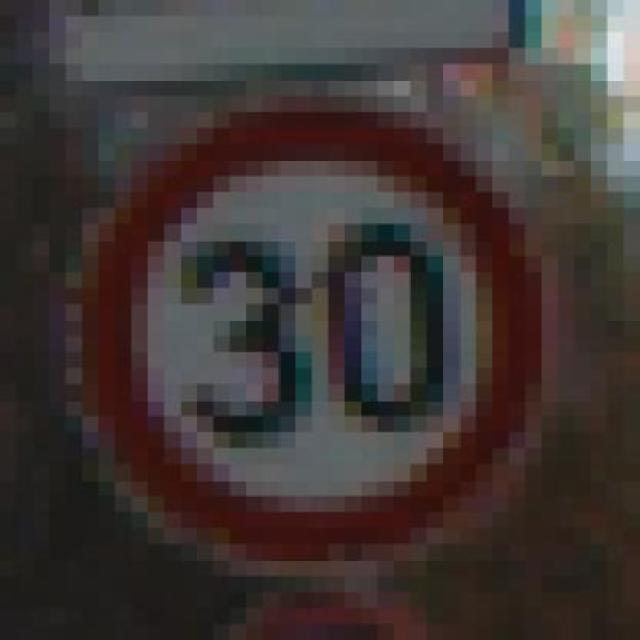Speed Limit 30 KMPh: (32, 95, 608, 592)
